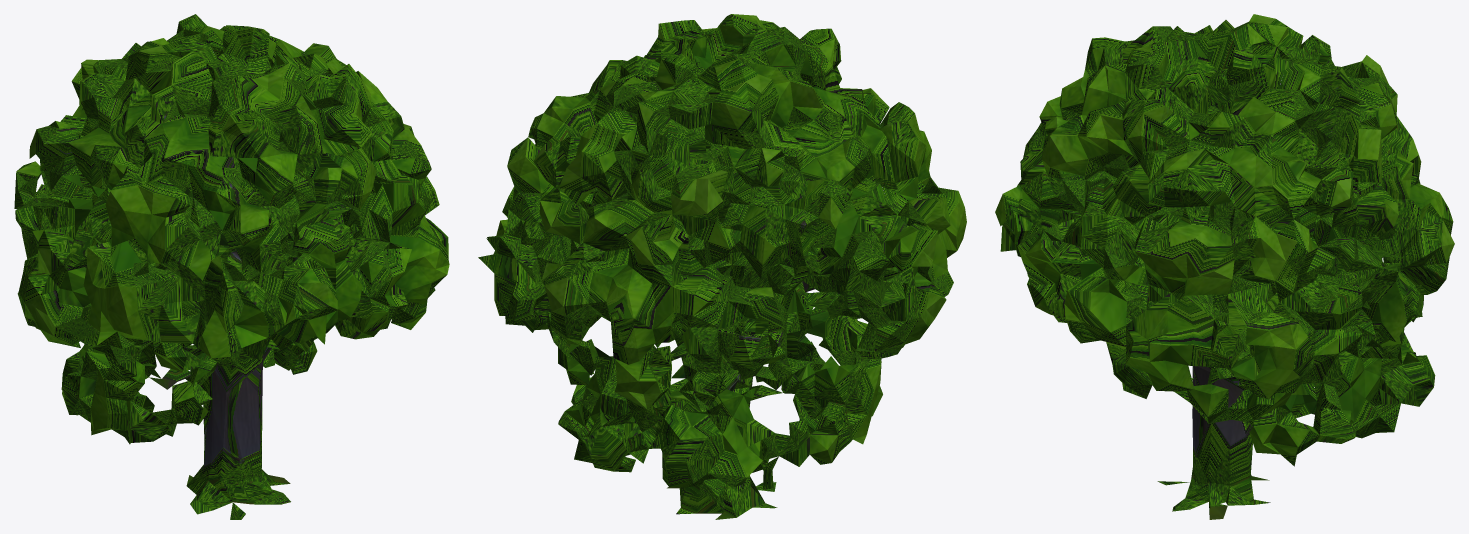
The model's file is oak.glb.
3 views of the same model, side by side, from view 1: azimuth 30°, elevation 25°; view 2: azimuth 150°, elevation 25°; view 3: azimuth 270°, elevation 25° (orthographic).
Parts seen in each view (by area): view 1: textured_mesh.obj; view 2: textured_mesh.obj; view 3: textured_mesh.obj.
Boxes of the visible parts, box(x1,y1,x2,y2) form: textured_mesh.obj: box(14, 14, 449, 519); textured_mesh.obj: box(478, 14, 966, 519); textured_mesh.obj: box(995, 14, 1454, 519).
Size of the model in its own units: 1.84 by 1.99 by 1.79.
1 material, 1 textured.
